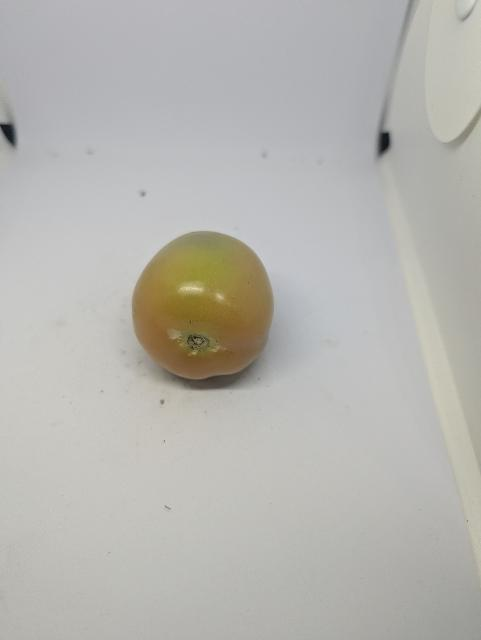turning: (125, 227, 283, 386)
